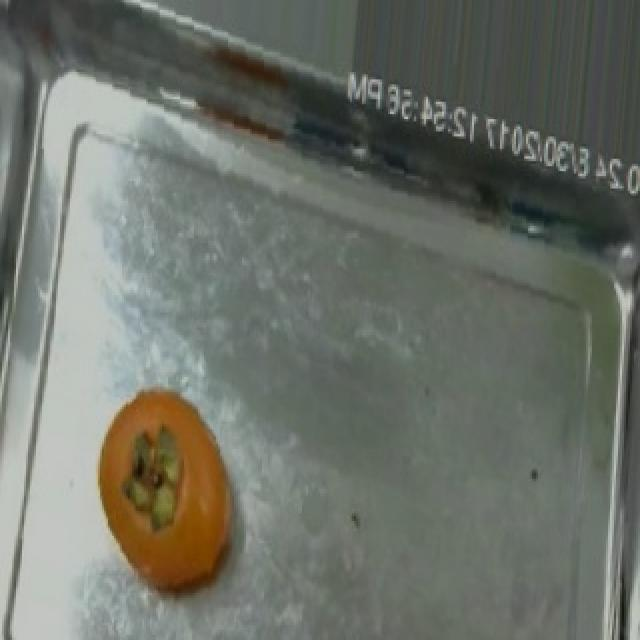Fruit: (74, 370, 256, 610)
